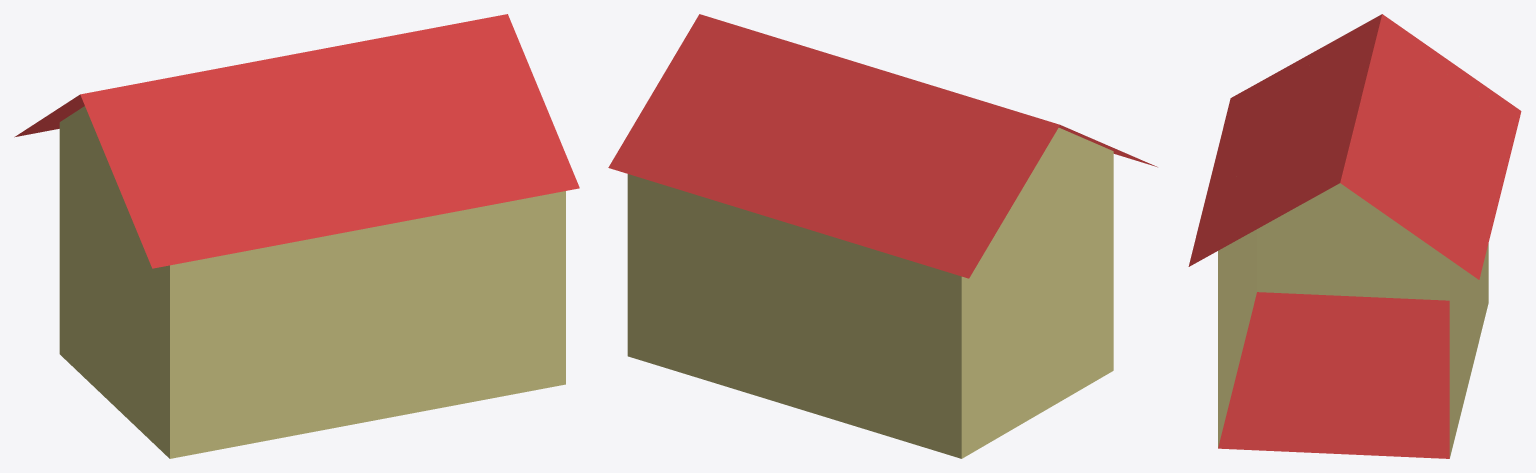
The picture shows the model from 3 angles, left to right: view 1: azimuth 30°, elevation 25°; view 2: azimuth 150°, elevation 25°; view 3: azimuth 270°, elevation 25°; orthographic projection. The views are drawn at different scales.
Bounding box in the file's own units: 10.87 × 8.41 × 7.55.
